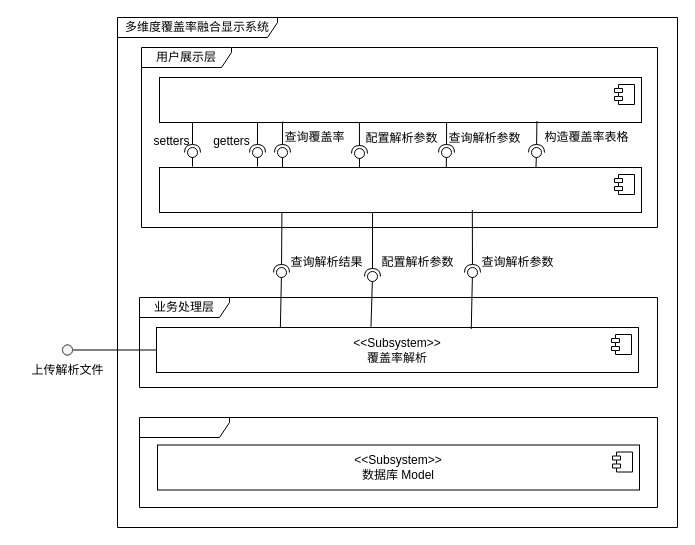
Image size: 695x545. Some labels were removed from this diagram. Each missing label, with the box of its shape:
<<Subsystem>> Vuex状态管理: (158, 166, 642, 212)
<<Subsystem>> 页面组件: (158, 76, 642, 122)
数据持久层: (138, 416, 658, 508)
